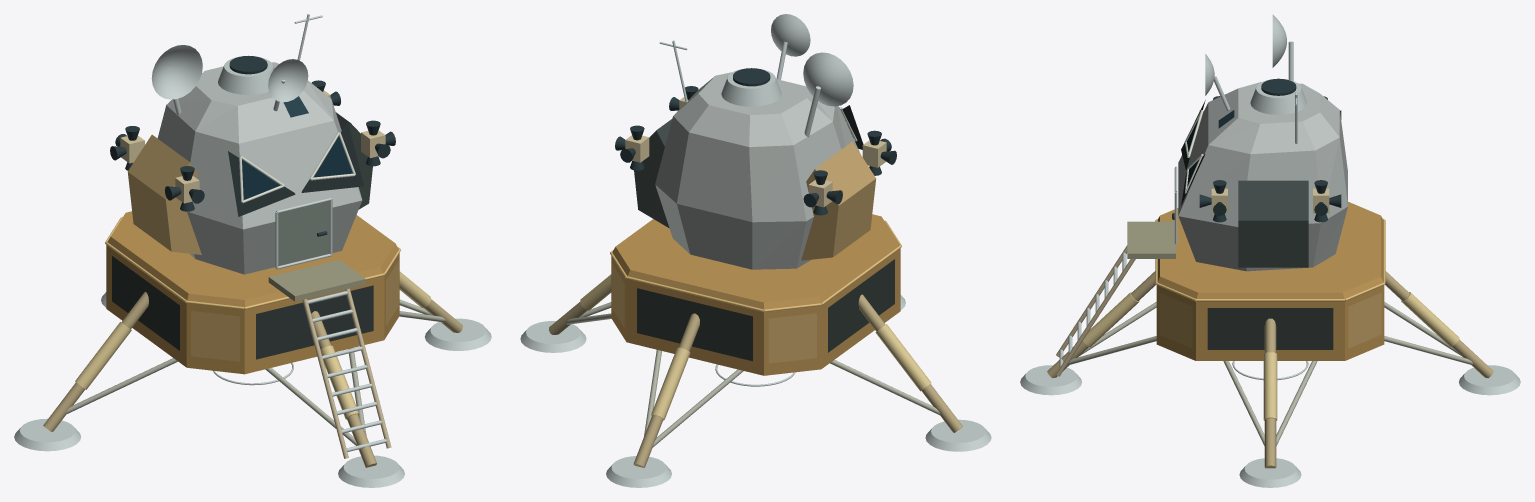
The model's file is apollo-lm.glb.
3 views of the same model, side by side, from view 1: azimuth 30°, elevation 25°; view 2: azimuth 150°, elevation 25°; view 3: azimuth 270°, elevation 25° (orthographic). The views are drawn at different scales.
Parts seen in each view (by area): view 1: ascent-faceted-cabin, descent-octagonal-envelope, legs, stage-1, ascent-equipment-fairing (×2), stage-2, landing-footpad (×3), forward-eva-hatch, steerable-antenna-schematic, docking, triangular-forward-window (×2), rendezvous-radar-antenna; view 2: ascent-faceted-cabin, descent-octagonal-envelope, stage-1, legs, ascent-equipment-fairing (×2), landing-footpad (×3), stage-2, steerable-antenna-schematic, docking, rendezvous-radar-antenna; view 3: ascent-faceted-cabin, descent-octagonal-envelope, legs, stage-1, ascent-equipment-fairing, landing-footpad (×3), stage-2, docking, steerable-antenna-schematic.
Boxes of the visible parts, box(x1,y1,x2,y2) form: ascent-faceted-cabin: box(157, 62, 362, 274); descent-octagonal-envelope: box(106, 211, 399, 374); legs: box(43, 260, 462, 467); stage-1: box(105, 217, 400, 361); ascent-equipment-fairing (×2): box(127, 112, 372, 254); stage-2: box(120, 14, 385, 269); landing-footpad (×3): box(14, 318, 491, 487); forward-eva-hatch: box(278, 201, 329, 265); steerable-antenna-schematic: box(151, 45, 202, 99); docking: box(218, 55, 274, 94); triangular-forward-window (×2): box(242, 136, 352, 199); rendezvous-radar-antenna: box(268, 59, 308, 102); ascent-faceted-cabin: box(655, 72, 860, 269); descent-octagonal-envelope: box(611, 214, 900, 375); stage-1: box(610, 220, 901, 363); legs: box(549, 274, 962, 467); ascent-equipment-fairing (×2): box(634, 119, 876, 260); landing-footpad (×3): box(520, 321, 991, 487); stage-2: box(625, 40, 886, 207); steerable-antenna-schematic: box(803, 52, 853, 106); docking: box(721, 68, 781, 106); rendezvous-radar-antenna: box(771, 14, 810, 56); ascent-faceted-cabin: box(1178, 82, 1347, 271); descent-octagonal-envelope: box(1156, 201, 1384, 360); legs: box(1047, 221, 1493, 468); stage-1: box(1155, 219, 1385, 349); ascent-equipment-fairing: box(1238, 180, 1308, 267); landing-footpad (×3): box(1020, 365, 1520, 487); stage-2: box(1172, 41, 1329, 244); docking: box(1250, 78, 1306, 114); steerable-antenna-schematic: box(1272, 14, 1286, 67).
Bounding box in the file's own units: 4.84 × 3.54 × 4.84.
